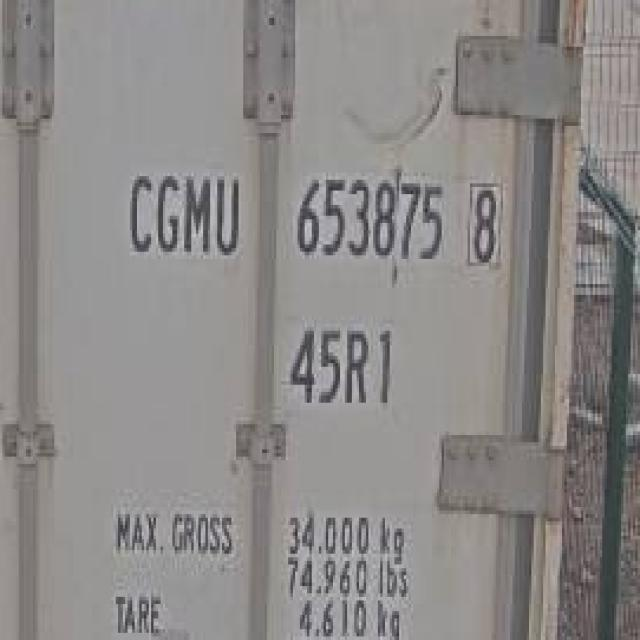dv: (460, 171, 510, 269)
owner: (115, 157, 251, 270)
serial: (291, 171, 449, 272)
size: (283, 311, 405, 411)
